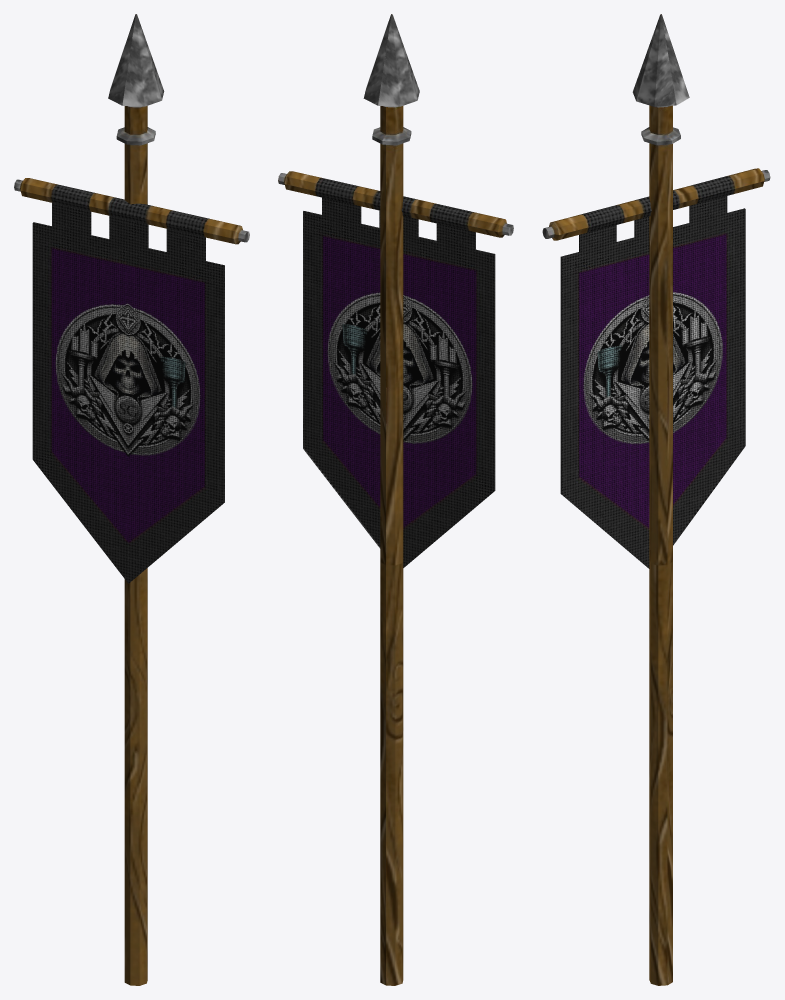
File: Flag_SG.glb
3 renders of one model, left to right at view 1: azimuth 30°, elevation 25°; view 2: azimuth 210°, elevation 25°; view 3: azimuth 270°, elevation 25°, orthographic.
Parts seen in each view (by area): view 1: Bannière_SG; view 2: Bannière_SG; view 3: Bannière_SG.
Part boxes in pixels (bbox=[...]): Bannière_SG: bbox=[14, 14, 249, 985]; Bannière_SG: bbox=[278, 14, 513, 985]; Bannière_SG: bbox=[542, 14, 770, 985].
Size of the model in its own units: 0.3742 by 2.7 by 0.5762.
1 material, 1 textured.
